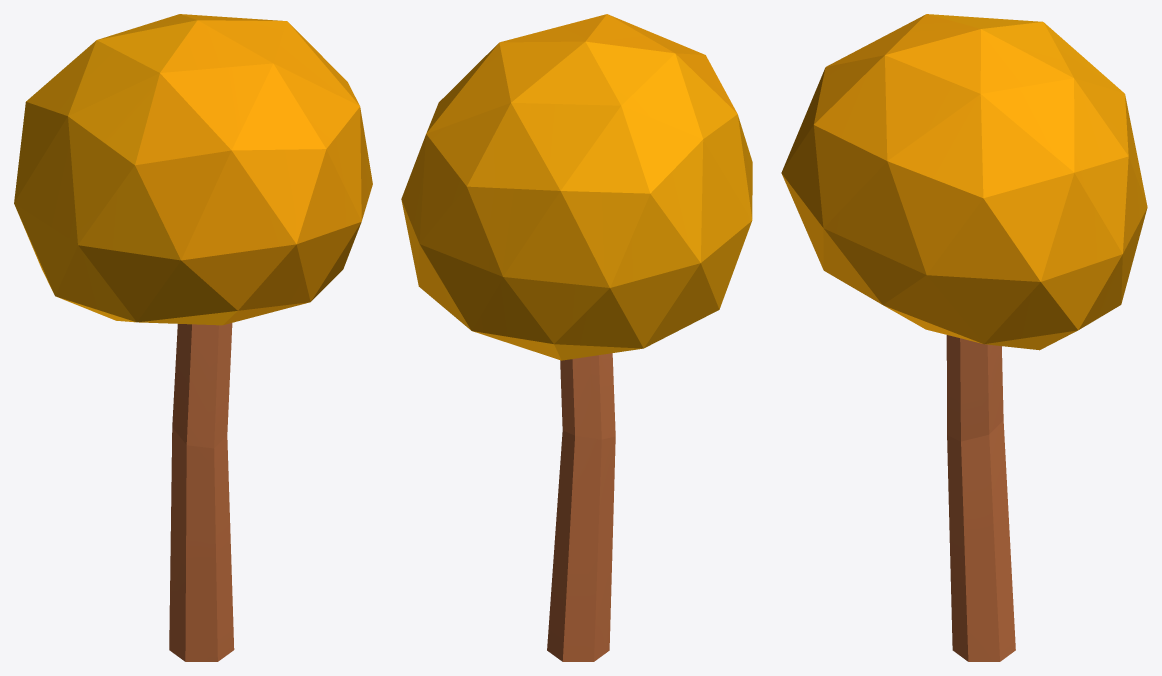
Rendered from tree4.fbx.
The picture shows the model from 3 angles, left to right: view 1: azimuth 30°, elevation 25°; view 2: azimuth 150°, elevation 25°; view 3: azimuth 270°, elevation 25°; orthographic projection. The views are drawn at different scales.
Parts seen in each view (by area): view 1: Icosphere.003, Cylinder.011; view 2: Icosphere.003, Cylinder.011; view 3: Icosphere.003, Cylinder.011.
Part boxes in pixels (x1,y1,x2,y2): Icosphere.003: (14,14,372,325); Cylinder.011: (169,323,234,661); Icosphere.003: (401,14,752,360); Cylinder.011: (547,353,615,661); Icosphere.003: (781,14,1147,350); Cylinder.011: (946,335,1015,661).
Size of the model in its own units: 1.92 by 3.71 by 1.99.
1 material, 1 textured.
